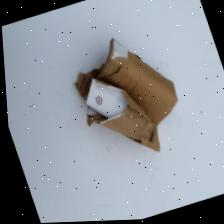cardboard: (55, 17, 199, 182)
